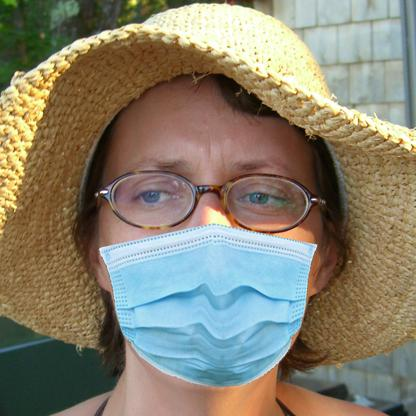mask: (88, 226, 316, 386)
